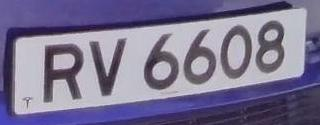0: (218, 19, 256, 85)
6: (138, 27, 185, 95), (179, 23, 221, 91)
8: (252, 15, 291, 80)
R: (36, 35, 89, 110)
V: (85, 32, 133, 101)
